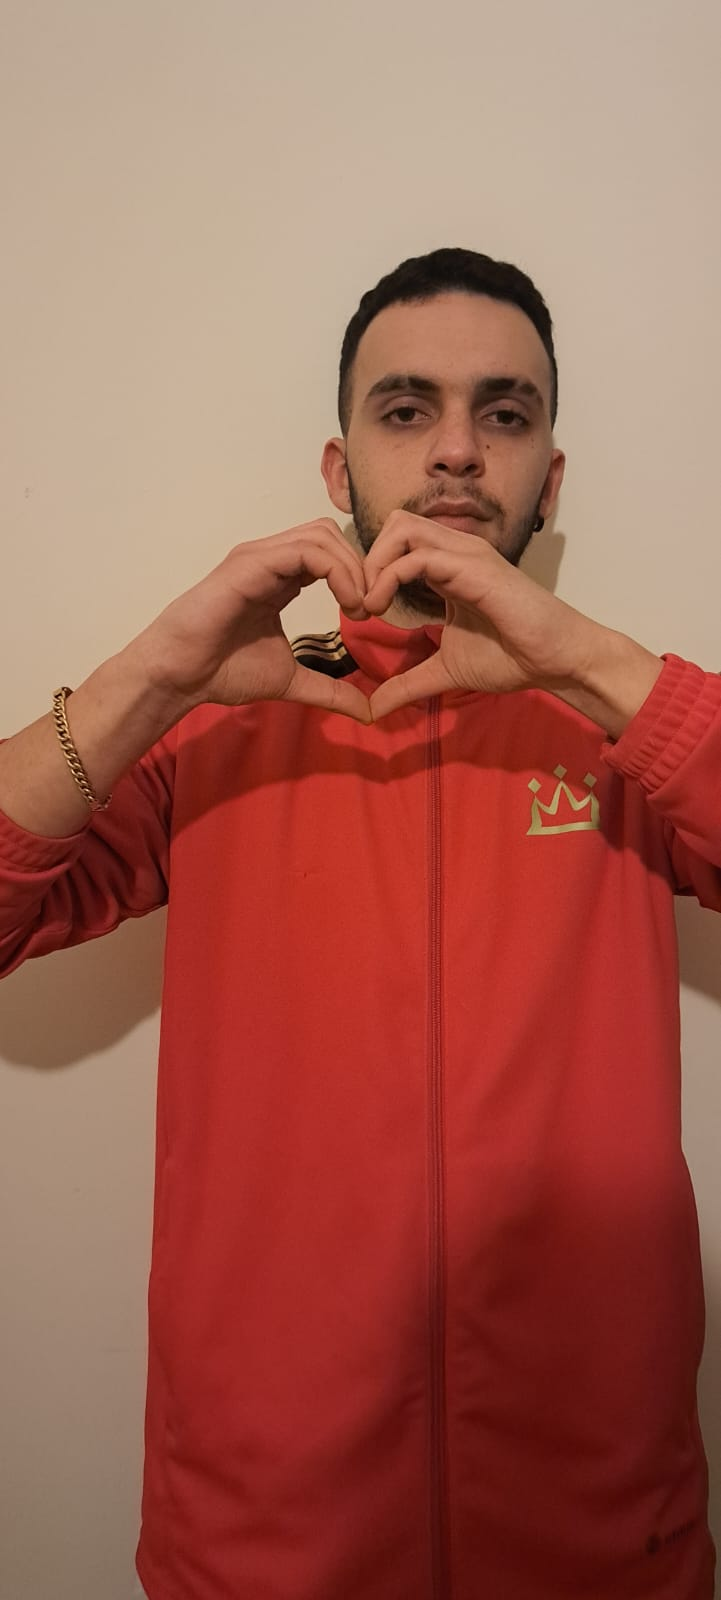cuore: (183, 508, 581, 740)
